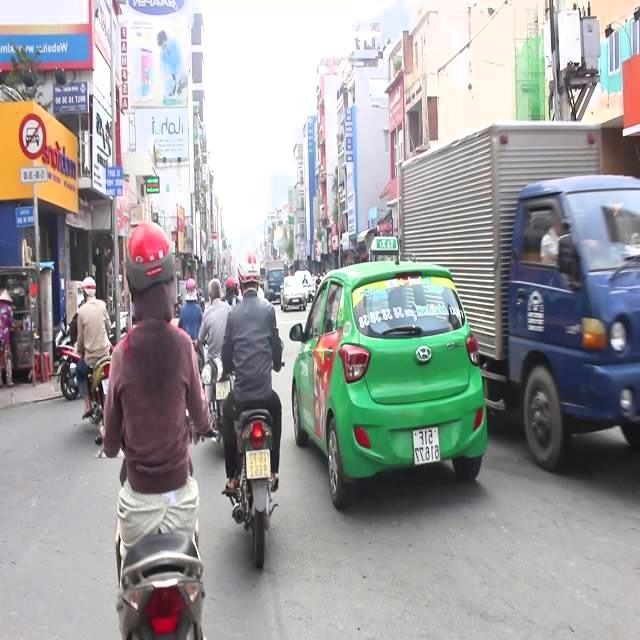P.103a: (16, 107, 49, 165)
